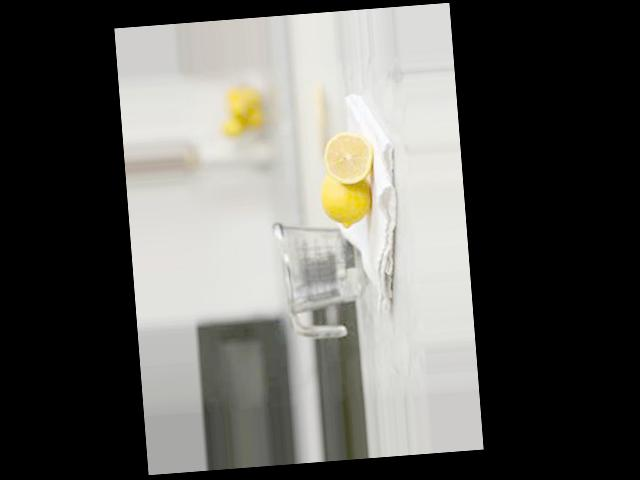lemon: (315, 161, 381, 241)
